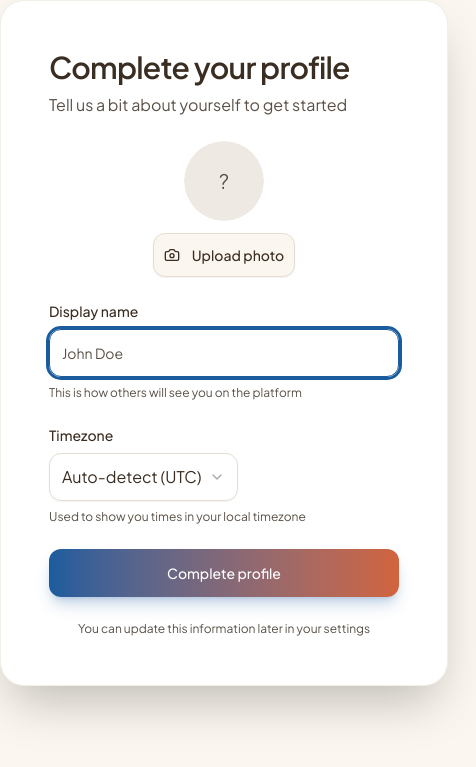
Test: CompleteProfilePage › displays validation error for empty display name
The width and height of the screenshot is (476, 767).
Click the button "Complete profile".
click(224, 573)  # box x1=49 y1=549 x2=399 y2=597
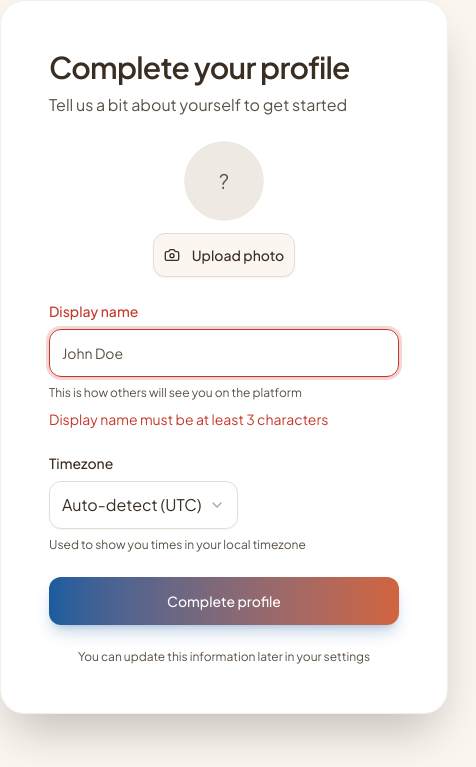
expect the text "Display name must be at least 3 characters" is shown: met, box x1=49 y1=410 x2=328 y2=428
